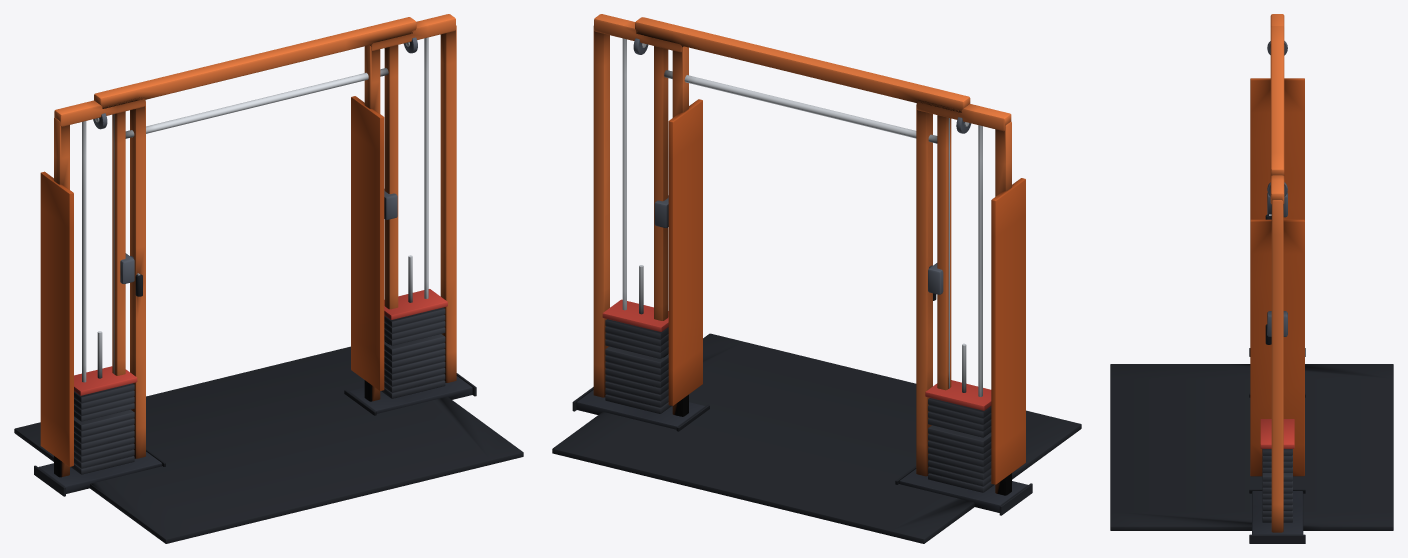
Rendered from m_cable.glb.
3 views of the same model, side by side, from view 1: azimuth 30°, elevation 25°; view 2: azimuth 150°, elevation 25°; view 3: azimuth 270°, elevation 25° (orthographic). The views are drawn at different scales.
Parts seen in each view (by area): view 1: static, o17, o49; view 2: static, o17, o49; view 3: static, o49.
Part boxes in pixels (left/top/right/bottom): static: left=14, top=14, right=523, bottom=543; o17: left=74, top=331, right=137, bottom=421; o49: left=384, top=255, right=447, bottom=345; static: left=552, top=14, right=1081, bottom=543; o17: left=925, top=343, right=991, bottom=437; o49: left=602, top=265, right=668, bottom=358; static: left=1110, top=14, right=1393, bottom=543; o49: left=1260, top=419, right=1294, bottom=472.
Size of the model in its own units: 2.61 by 2.28 by 1.66.
